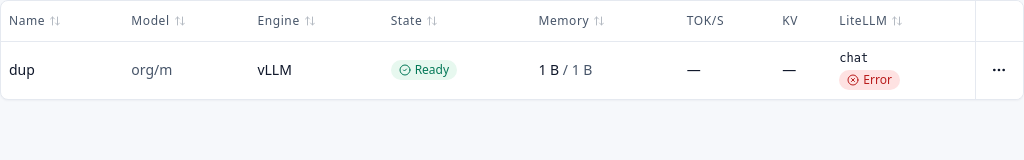
DeploymentsTable › shows the exact LiteLLM error reason from the deployment list
The image size is (1024, 160).
Step 1. Hover over the text "Error" → (870, 80), box [839,70,900,90]
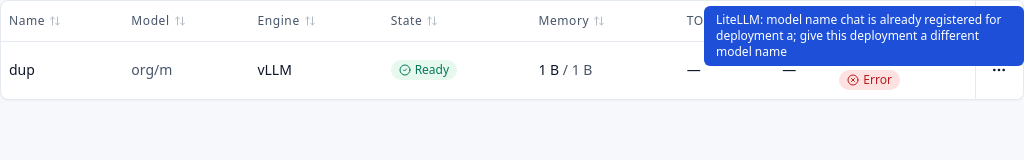
Check: the tooltip "already registered for deployment a" is shown, box [716,11,1002,60]
